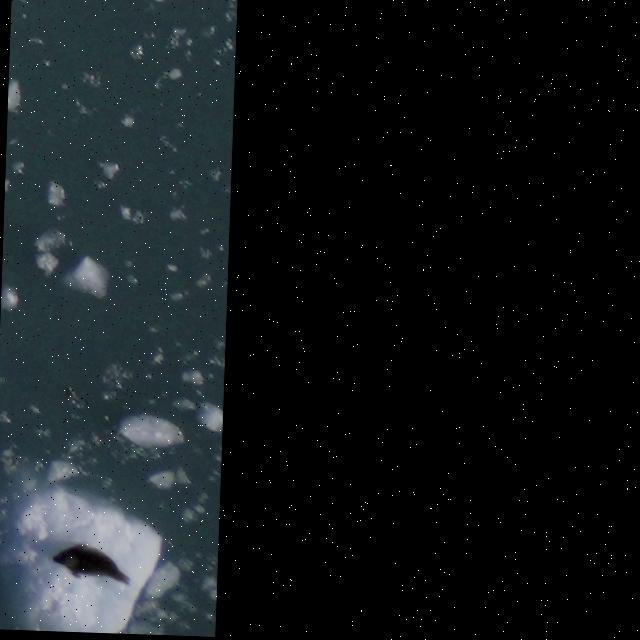seal: (47, 537, 137, 589)
